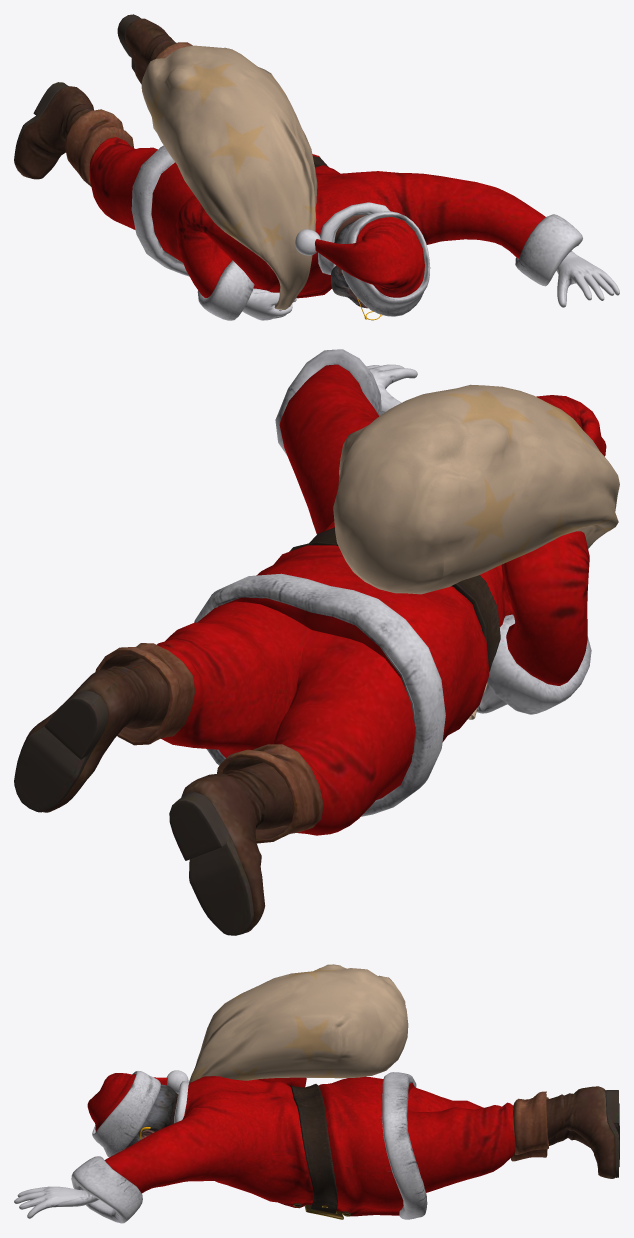
The model's file is Santa.obj.
3 views of the same model, one above another, from view 1: azimuth 30°, elevation 25°; view 2: azimuth 150°, elevation 25°; view 3: azimuth 270°, elevation 25° (orthographic). The views are drawn at different scales.
Visible parts, largest first — view 1: 12166_Santa_Claus_Body, 12166_Santa_Claus_Bag, 12166_Santa_Claus_Gloves, 12166_Santa_Claus_Head; view 2: 12166_Santa_Claus_Body, 12166_Santa_Claus_Bag, 12166_Santa_Claus_Gloves; view 3: 12166_Santa_Claus_Body, 12166_Santa_Claus_Bag, 12166_Santa_Claus_Gloves, 12166_Santa_Claus_Head.
Boxes of the visible parts, x1,y1,x2,y2 form: 12166_Santa_Claus_Body: (14,14,582,320); 12166_Santa_Claus_Bag: (141,45,317,309); 12166_Santa_Claus_Gloves: (242,251,619,320); 12166_Santa_Claus_Head: (331,215,371,310); 12166_Santa_Claus_Body: (14,349,606,935); 12166_Santa_Claus_Bag: (333,384,619,719); 12166_Santa_Claus_Gloves: (366,364,507,713); 12166_Santa_Claus_Body: (71,1070,619,1223); 12166_Santa_Claus_Bag: (189,964,408,1082); 12166_Santa_Claus_Gloves: (14,1186,98,1218); 12166_Santa_Claus_Head: (125,1084,178,1148).
Size of the model in its own units: 105 by 86.63 by 212.
6 materials, 5 textured.
